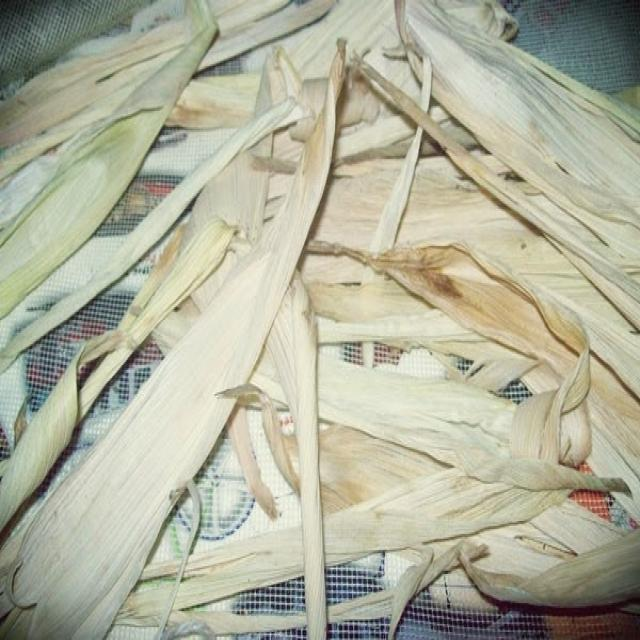Organik: (7, 15, 638, 610)
